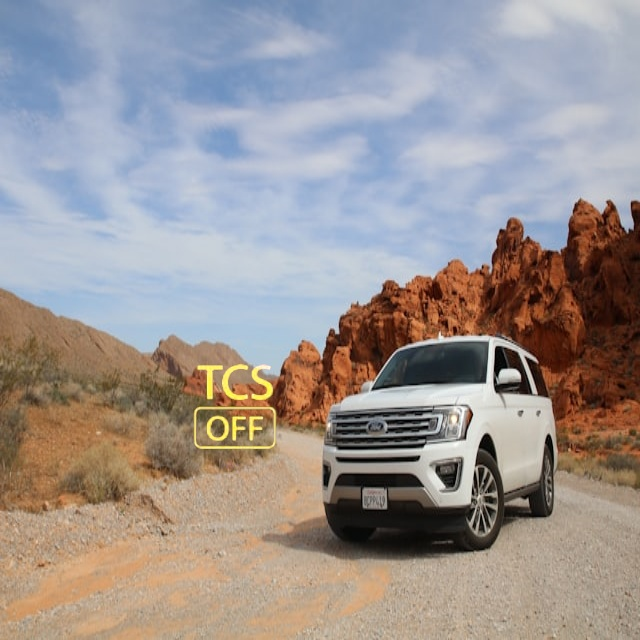symbol: (169, 341, 304, 476)
